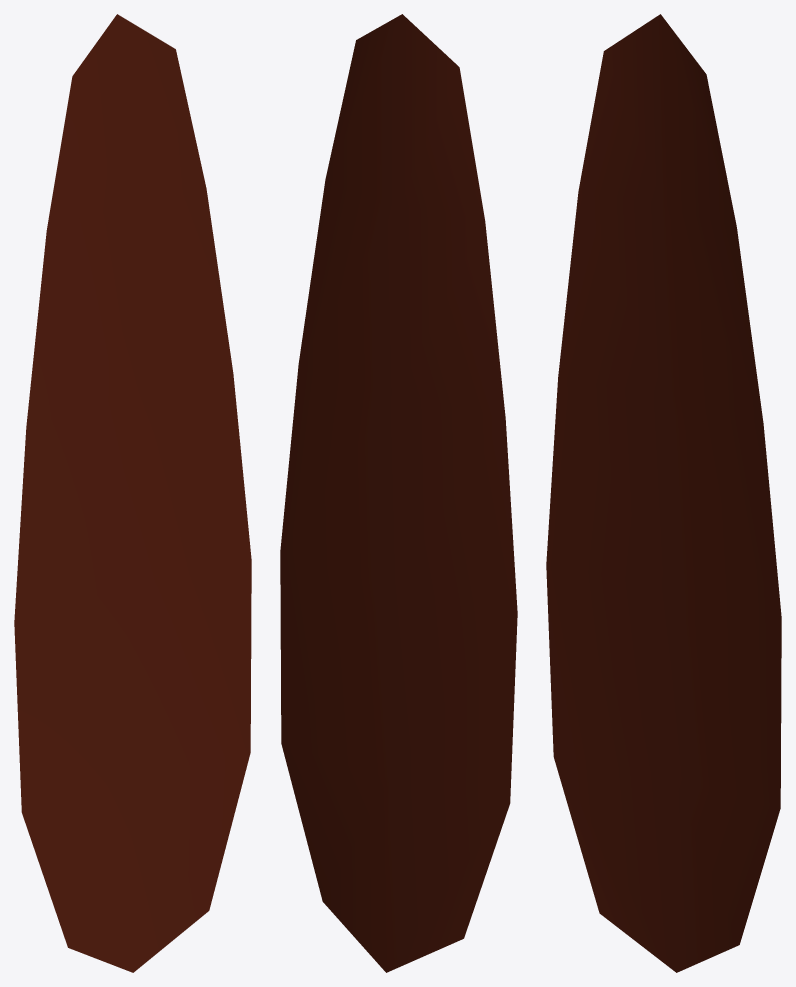
The model's file is finch_feather_flight_tertiary_035.obj.
3 views of the same model, side by side, from view 1: azimuth 30°, elevation 25°; view 2: azimuth 150°, elevation 25°; view 3: azimuth 330°, elevation 25° (orthographic).
Parts seen in each view (by area): view 1: feather_flight_tertiary_035; view 2: feather_flight_tertiary_035; view 3: feather_flight_tertiary_035.
Part boxes in pixels (left/top/right/bottom): feather_flight_tertiary_035: left=14, top=14, right=251, bottom=972; feather_flight_tertiary_035: left=280, top=14, right=517, bottom=972; feather_flight_tertiary_035: left=546, top=14, right=781, bottom=972.
Size of the model in its own units: 0.00338 by 0.0131 by 0.000153.
